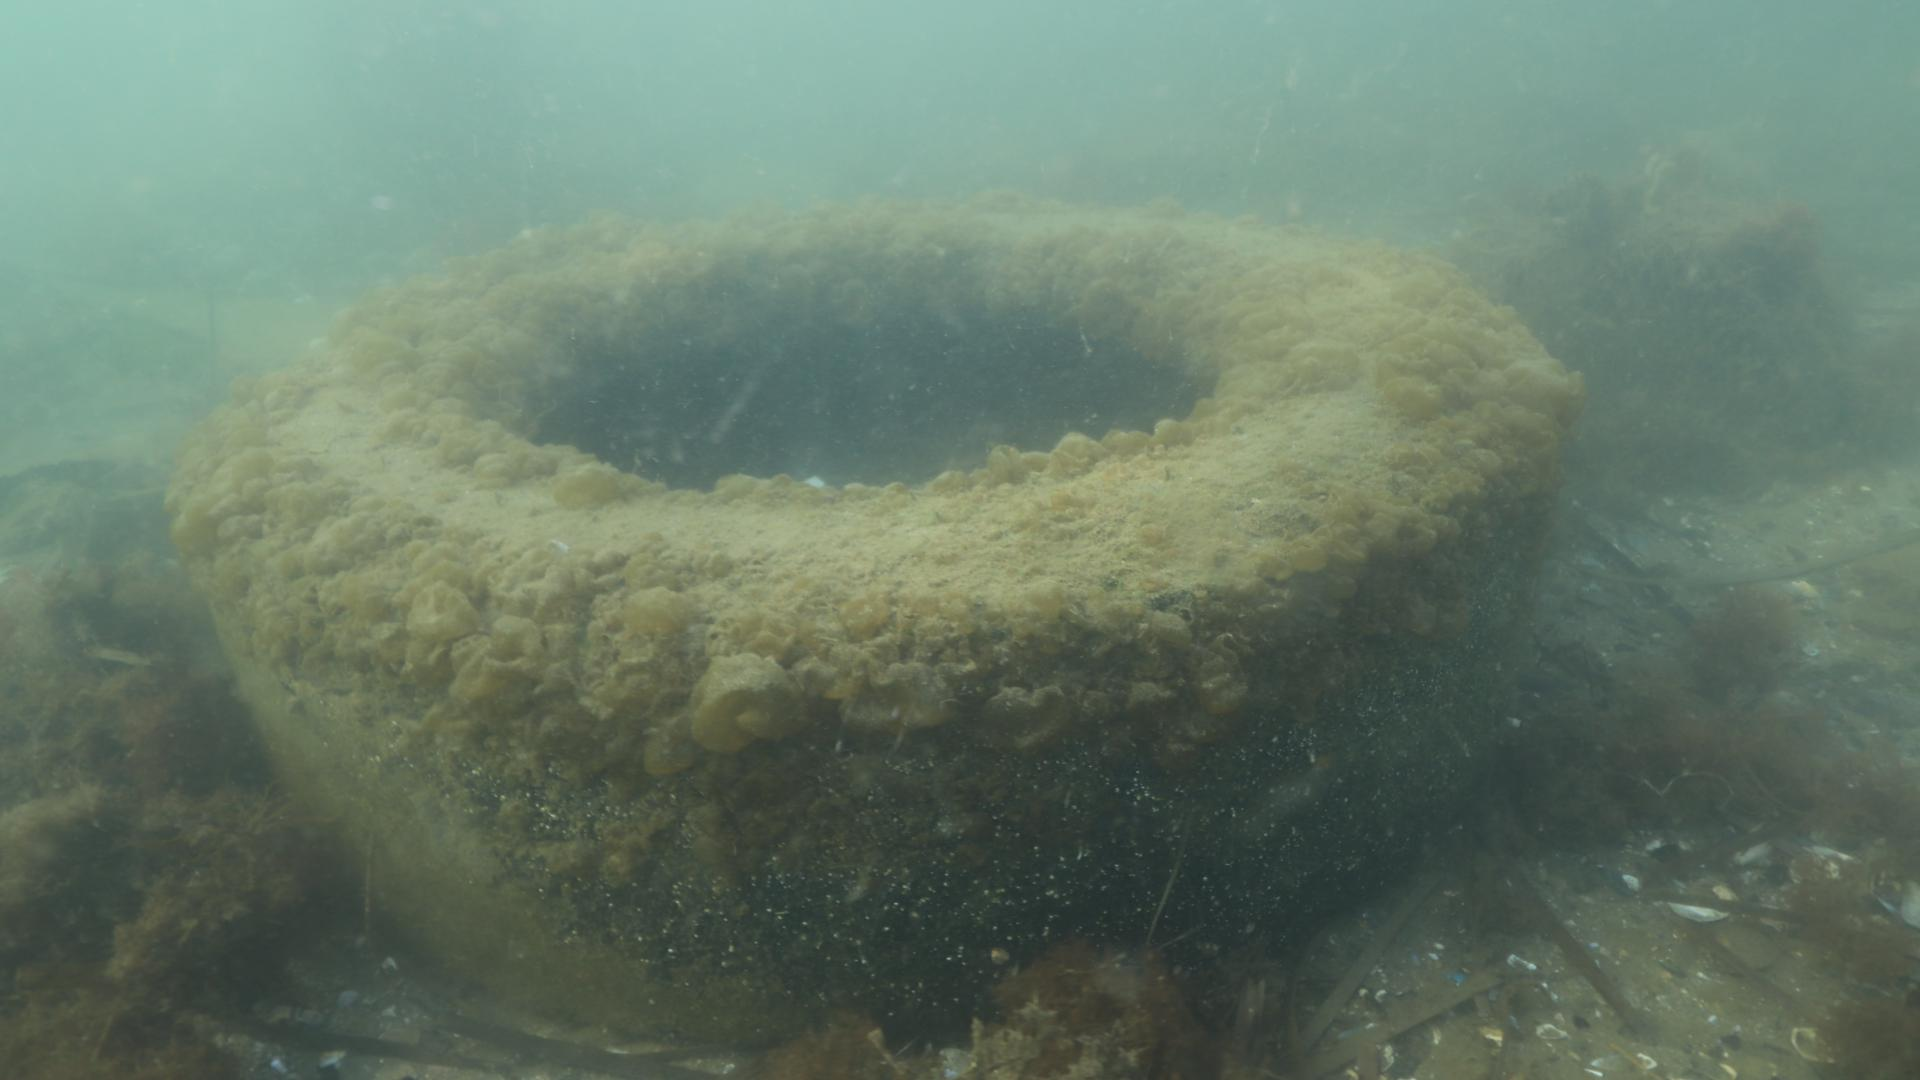tire: (161, 193, 1559, 1048)
